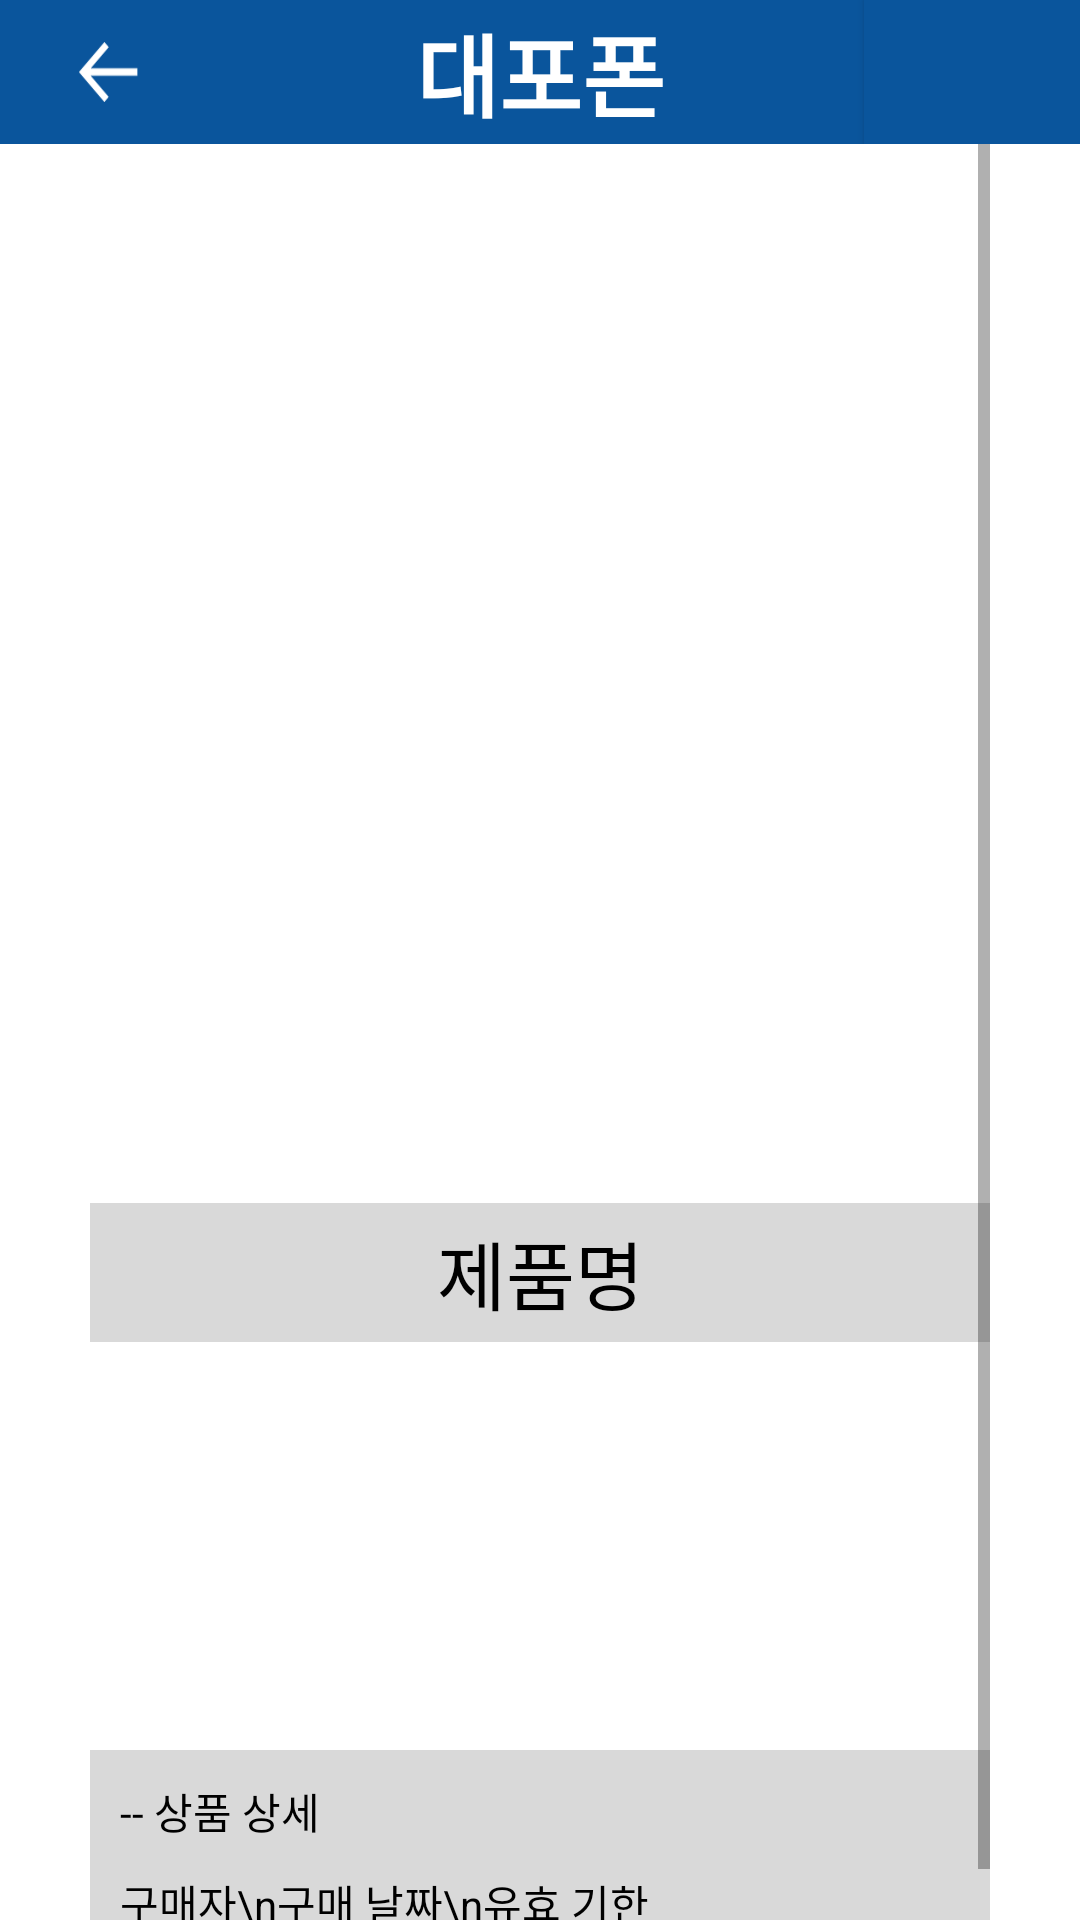

Named icons in this screenshot (1080px x 1920px) and their centers, (x,y):
back arrow resize: (108,72)
